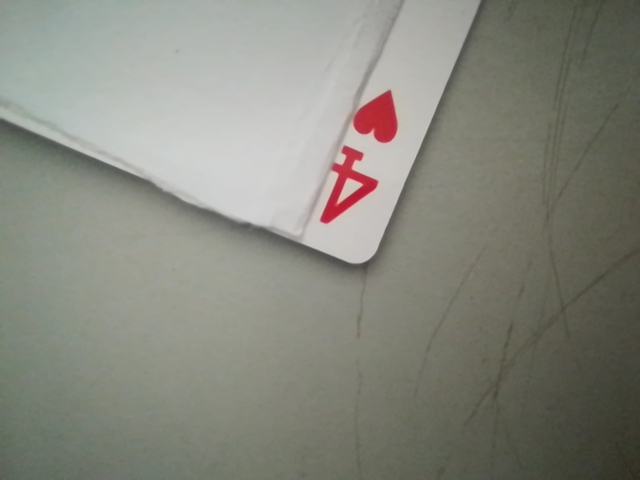hx 4: (304, 85, 411, 243)
